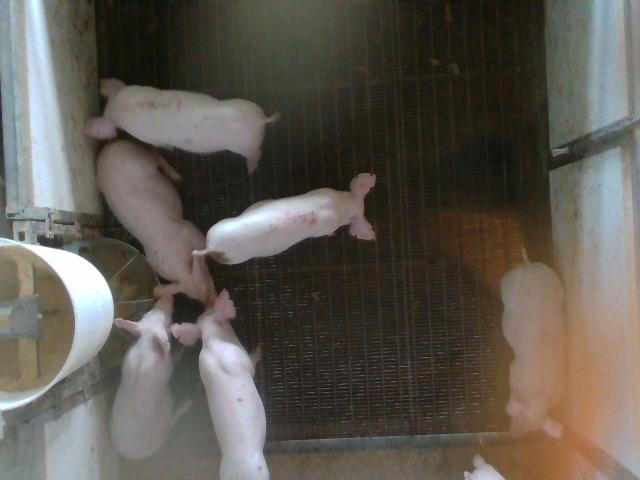pig-3: (84, 79, 277, 172)
pig-4: (501, 249, 564, 438)
pig-5: (192, 174, 376, 264)
